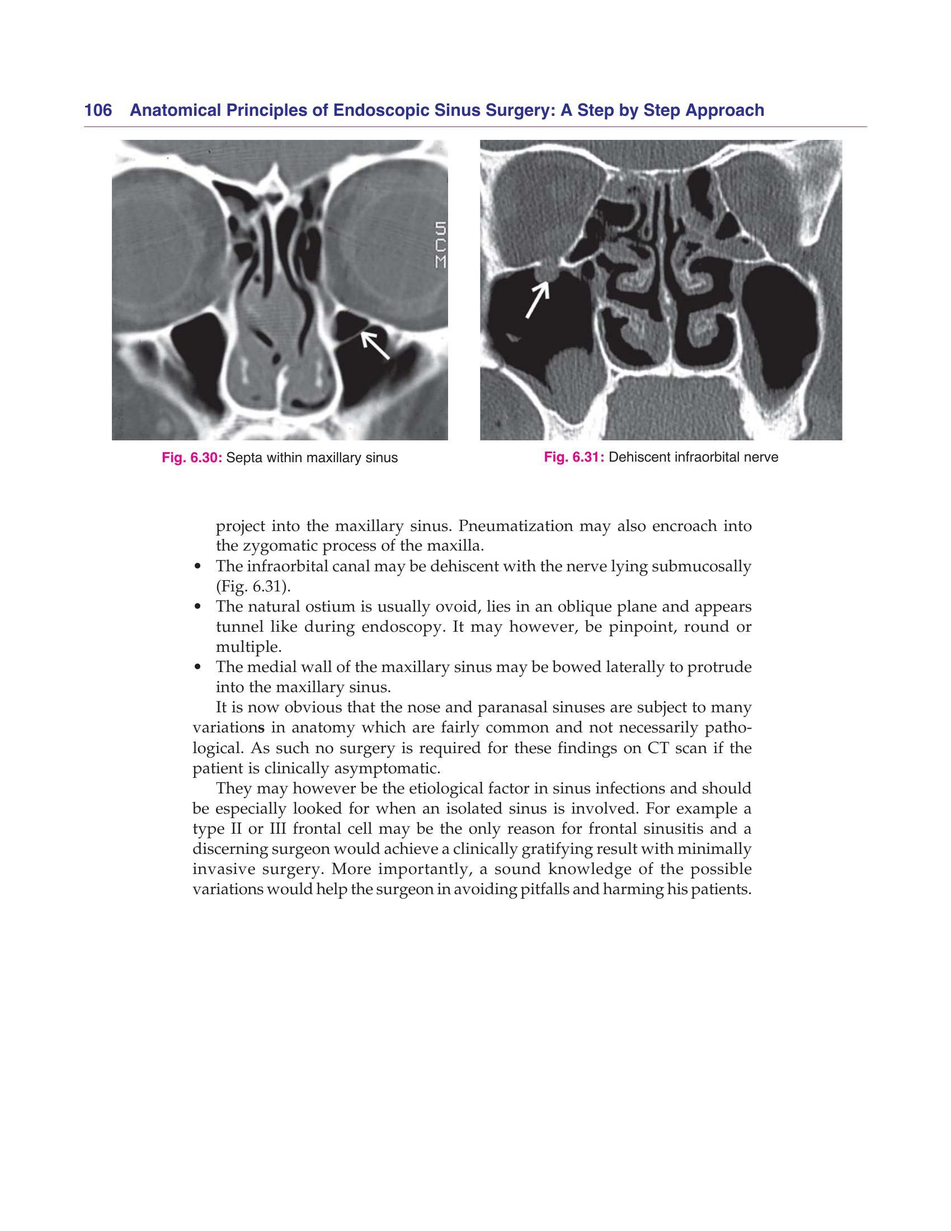caption: (160, 449, 400, 468), (542, 449, 781, 467)
header: (129, 100, 766, 122)
image: (478, 138, 842, 442), (111, 138, 448, 442)
list: (189, 515, 755, 698)
text: (189, 699, 753, 901)
